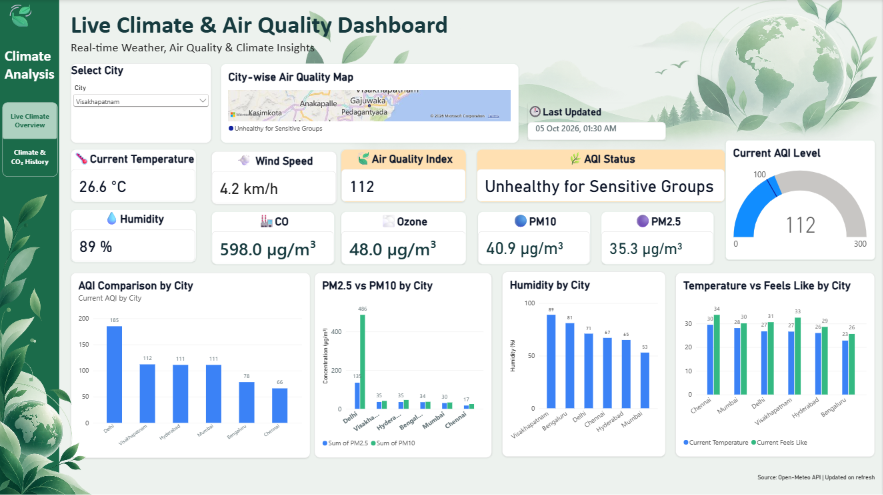

The page's visual inventory and layout, read from the dashboard file:
{"tool":"powerbi","page":{"name":"Live Climate Overview","canvas":[1920,1080],"ordinal":0},"visuals":[{"type":"image","box":[652.5,0,1267.5,335],"z":0},{"type":"textbox","box":[155,22.5,1765,145],"z":1000},{"type":"slicer","title":"Select City","fields":{"Values":["Live City Data.City"]},"box":[155,140,305,172.5],"z":2000},{"type":"cardVisual","title":"🌡️Current Temperature","fields":{"Data":["Live City Data.Temperature Display"]},"box":[155,325,272.5,115],"z":3000},{"type":"cardVisual","title":"💧Humidity","fields":{"Data":["Live City Data.Humidity Display"]},"box":[155,457.5,272.5,115],"z":4000},{"type":"cardVisual","title":"💨 Wind Speed","fields":{"Data":["Live City Data.Wind Speed Display"]},"box":[460,330,272,115],"z":5000},{"type":"cardVisual","title":"🍃Air Quality Index","fields":{"Data":["Live City Data.AQI Display"]},"box":[742.5,325,272,115],"z":6000},{"type":"cardVisual","title":"🌿AQI Status","fields":{"Data":["Live City Data.AQI Status"]},"box":[1037.5,325,540,115],"z":7000},{"type":"gauge","title":"Current AQI Level","fields":{"MaxValue":["Live City Data.AQI Maximum"],"TargetValue":["Live City Data.AQI Reference"],"Y":["Live City Data.Current AQI"]},"box":[1577.5,305,325,260],"z":8000},{"type":"cardVisual","title":"🟣PM2.5","fields":{"Data":["Live City Data.PM2.5 Display"]},"box":[1307.5,460,245,115],"z":9000},{"type":"cardVisual","title":"🔵PM10","fields":{"Data":["Live City Data.PM10 Display"]},"box":[1040,460,245,115],"z":10000},{"type":"cardVisual","title":"🏭CO","fields":{"Data":["Live City Data.CO Display"]},"box":[460,460,267.5,115],"z":11000},{"type":"cardVisual","title":"🌫️Ozone","fields":{"Data":["Live City Data.Ozone Display"]},"box":[742.5,460,272,115],"z":12000},{"type":"clusteredColumnChart","title":"AQI Comparison by City","fields":{"Category":["Live City Data.City"],"Y":["Live City Data.Current AQI"]},"box":[155,595,520,402.5],"z":13000},{"type":"clusteredColumnChart","title":"PM2.5 vs PM10 by City","fields":{"Category":["Live City Data.City"],"Y":["Sum(Live City Data.PM2.5)","Sum(Live City Data.PM10)"]},"box":[685,595,385,402],"z":14000},{"type":"clusteredColumnChart","title":"Temperature vs Feels Like by City","fields":{"Category":["Live City Data.City"],"Y":["Live City Data.Current Temperature","Live City Data.Current Feels Like"]},"box":[1470,595,432.5,400],"z":15000},{"type":"clusteredColumnChart","title":"Humidity by City","fields":{"Category":["Live City Data.City"],"Y":["Live City Data.Current Humidity"]},"box":[1092.5,592.5,355,402],"z":16000},{"type":"map","title":"City-wise Air Quality Map","fields":{"Category":["Live City Data.City"],"Series":["Live City Data.AQI Category"],"Size":["Live City Data.Current AQI"],"X":["Avg(Live City Data.Longitude)"],"Y":["Avg(Live City Data.Latitude)"]},"box":[480,140,647.5,172.5],"z":17000},{"type":"cardVisual","title":"🕒Last Updated","fields":{"Data":["Live City Data.Last Updated Clean"]},"box":[1147.5,225,300,80],"z":18000},{"type":"shape","box":[0,0,130,1080.5],"z":19000},{"type":"textbox","box":[0,0,92.5,90],"z":20000},{"type":"textbox","box":[0,84.2,131,109.9],"z":21000},{"type":"pageNavigator","box":[5.7,224.3,120,161.4],"z":22000},{"type":"image","box":[0,405,405,675],"z":23000},{"type":"textbox","box":[100,1027.5,1802.5,52.5],"z":23001}]}

Visuals, with their boxes on the page's 1920x1080 design canvas (x1, y1, x2, y2). These are canvas units, not pixel positions in the 883x495 screenshot, which may show the page scaled, cropped or inside an application window:
image: 652/0/1920/335
textbox: 155/22/1920/168
"Select City" slicer: 155/140/460/312
"🌡️Current Temperature" cardVisual: 155/325/428/440
"💧Humidity" cardVisual: 155/458/428/572
"💨 Wind Speed" cardVisual: 460/330/732/445
"🍃Air Quality Index" cardVisual: 742/325/1014/440
"🌿AQI Status" cardVisual: 1038/325/1578/440
"Current AQI Level" gauge: 1578/305/1902/565
"🟣PM2.5" cardVisual: 1308/460/1552/575
"🔵PM10" cardVisual: 1040/460/1285/575
"🏭CO" cardVisual: 460/460/728/575
"🌫️Ozone" cardVisual: 742/460/1014/575
"AQI Comparison by City" clusteredColumnChart: 155/595/675/998
"PM2.5 vs PM10 by City" clusteredColumnChart: 685/595/1070/997
"Temperature vs Feels Like by City" clusteredColumnChart: 1470/595/1902/995
"Humidity by City" clusteredColumnChart: 1092/592/1448/994
"City-wise Air Quality Map" map: 480/140/1128/312
"🕒Last Updated" cardVisual: 1148/225/1448/305
shape: 0/0/130/1080
textbox: 0/0/92/90
textbox: 0/84/131/194
pageNavigator: 6/224/126/386
image: 0/405/405/1080
textbox: 100/1028/1902/1080
